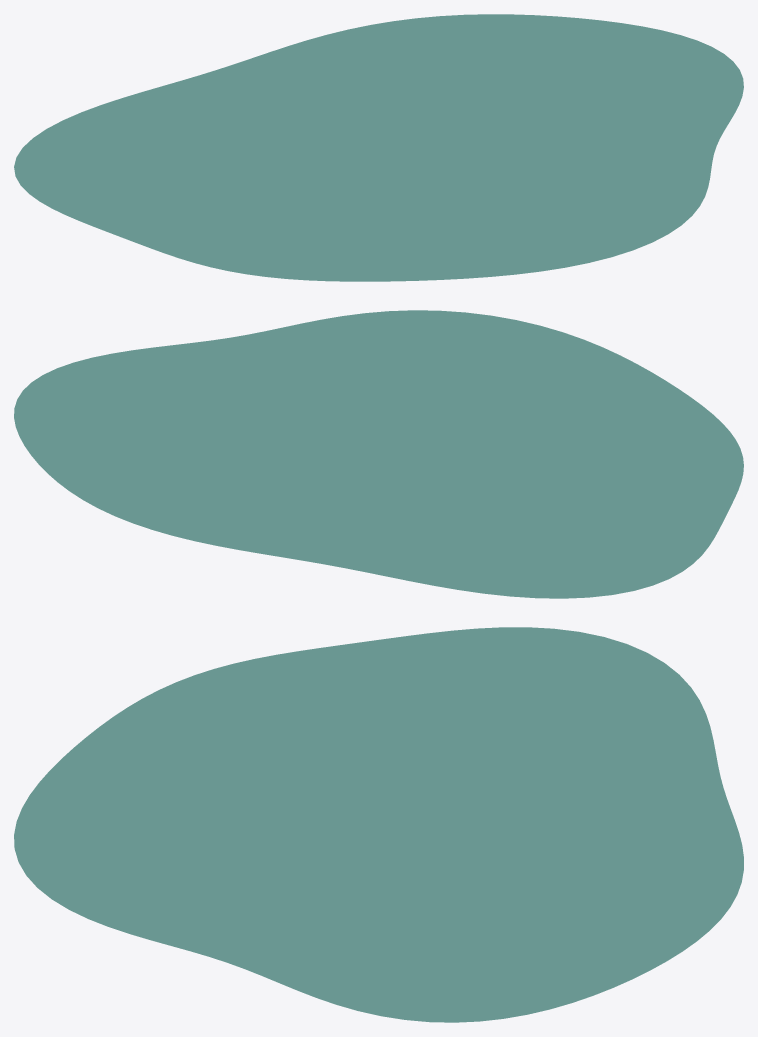
Rendered from SM_Lake.fbx.
3 renders of one model, top to bottom at view 1: azimuth 30°, elevation 25°; view 2: azimuth 150°, elevation 25°; view 3: azimuth 270°, elevation 25°, orthographic. The views are drawn at different scales.
Visible parts, largest first — view 1: SM_Lake; view 2: SM_Lake; view 3: SM_Lake.
Part boxes in pixels (x1=…): SM_Lake: x1=14, y1=14, x2=743, y2=281; SM_Lake: x1=14, y1=310, x2=743, y2=598; SM_Lake: x1=14, y1=627, x2=743, y2=1022.
Bounding box in the file's own units: 2412 × 1882 × 0.
